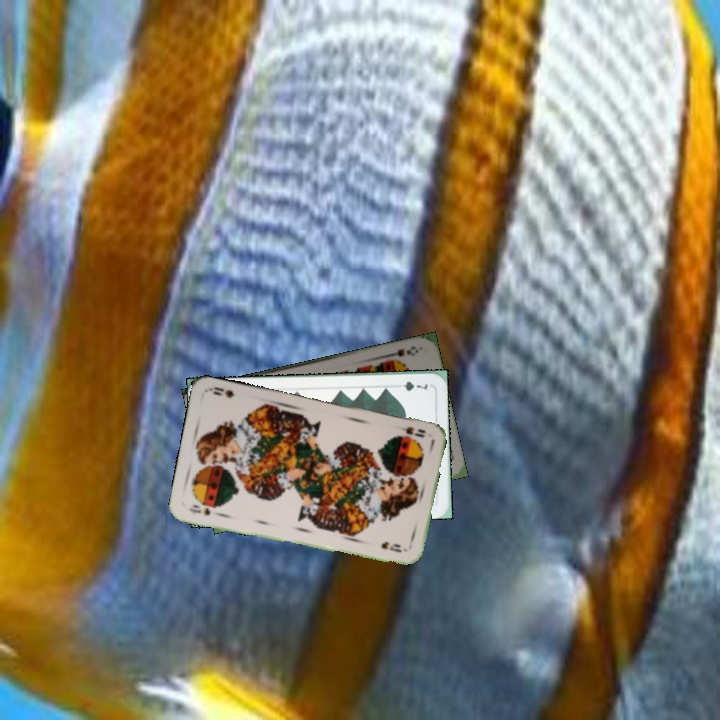G7: (391, 377, 431, 393)
S9: (382, 342, 421, 360)
SO: (185, 500, 223, 518), (391, 422, 428, 440)
